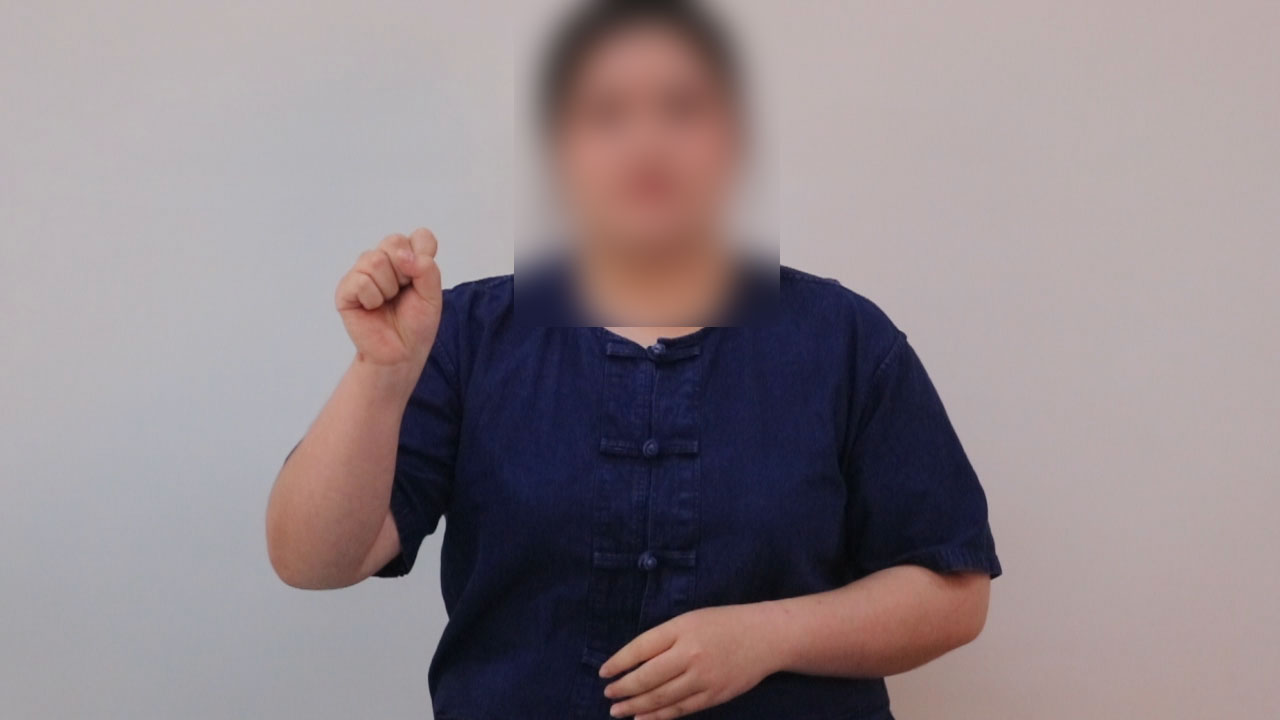sor: (317, 212, 465, 385)
